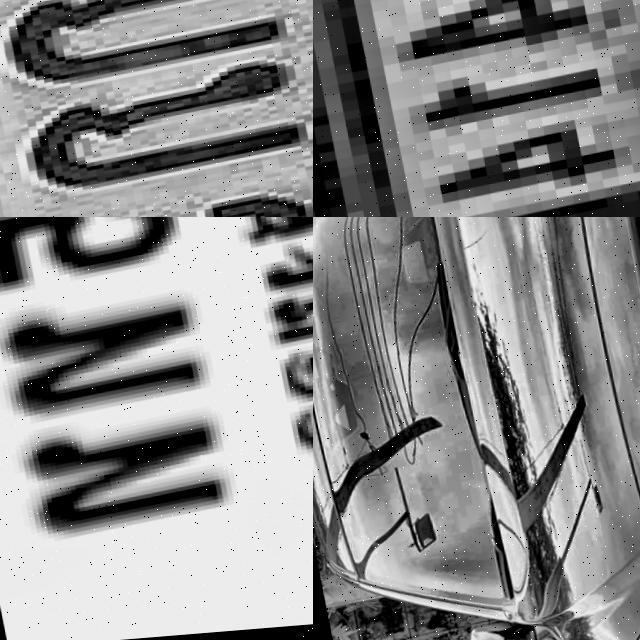license-plate: (0, 217, 313, 640), (313, 0, 640, 217), (0, 0, 313, 217)
